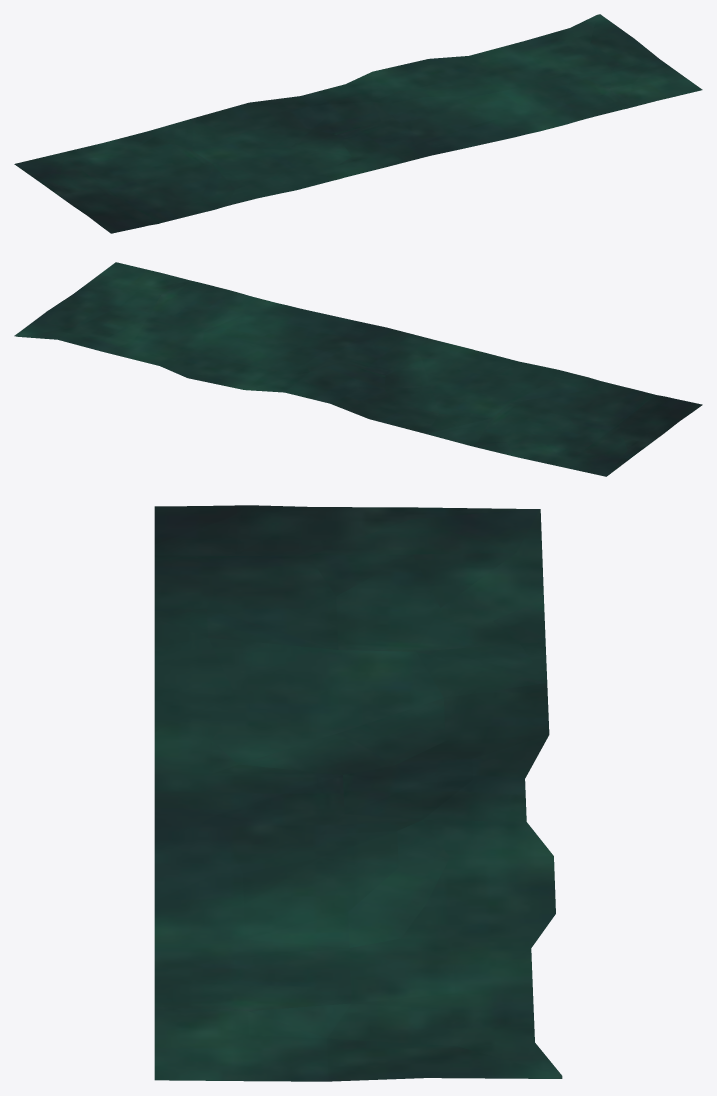
3 renders of one model, top to bottom at view 1: azimuth 30°, elevation 25°; view 2: azimuth 150°, elevation 25°; view 3: azimuth 270°, elevation 25°, orthographic. The views are drawn at different scales.
Size of the model in its own units: 52.22 by 0.4878 by 15.71.
1 material, 1 textured.
